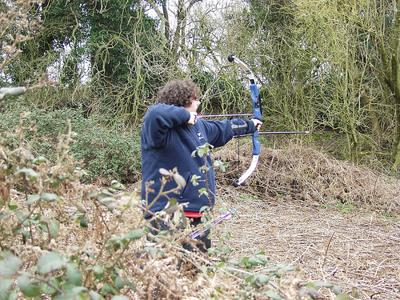person: (140, 78, 263, 250)
